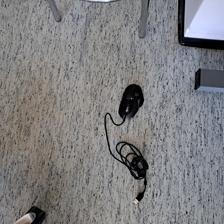mouse: (118, 82, 144, 119)
